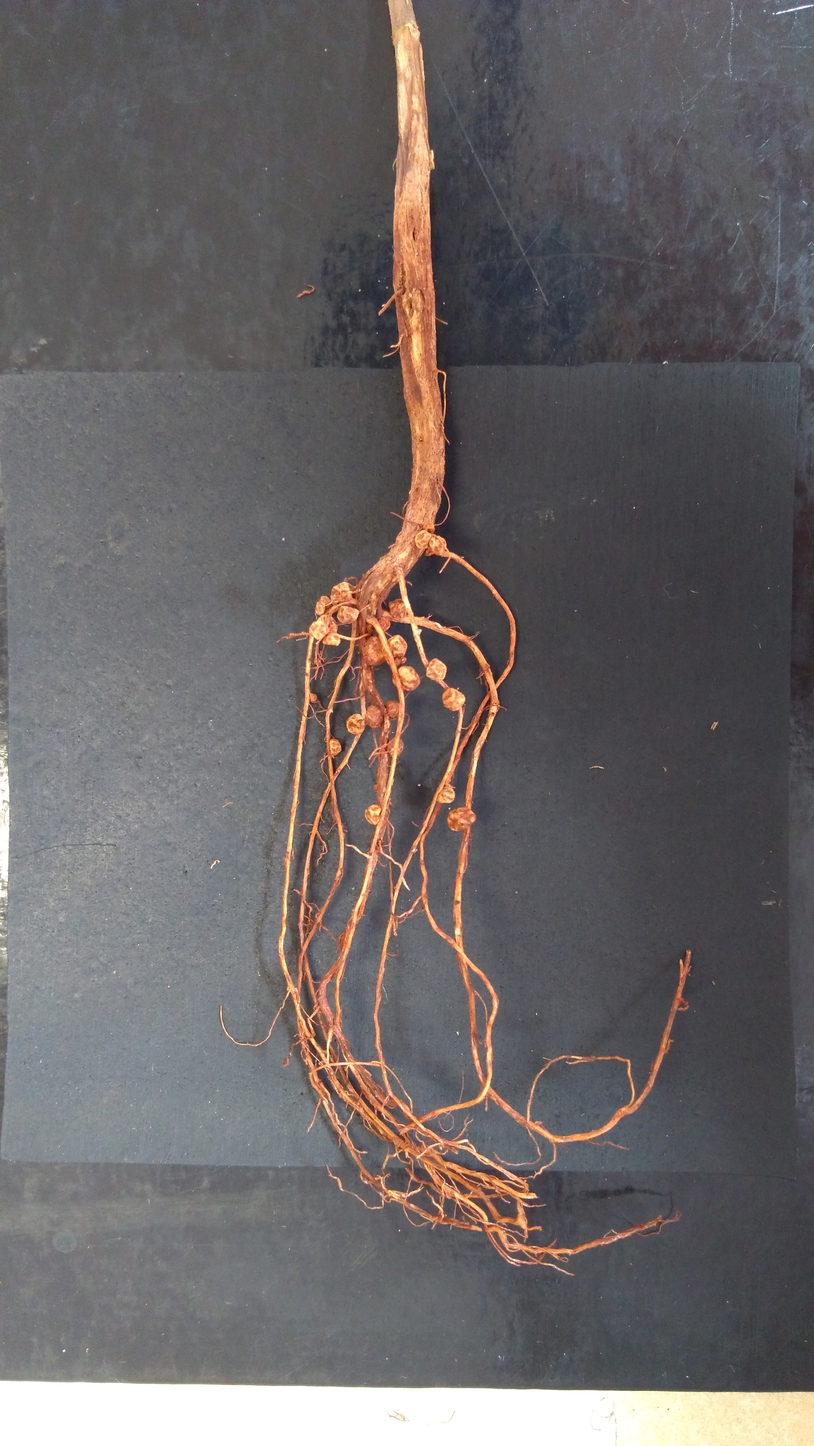nodule: (383, 635, 408, 667), (447, 806, 476, 832), (309, 615, 337, 640), (364, 635, 386, 666), (330, 582, 354, 609), (398, 666, 420, 691), (443, 688, 465, 711), (427, 658, 446, 681), (388, 598, 408, 619), (337, 605, 360, 623), (346, 714, 365, 735), (437, 783, 455, 804), (366, 706, 383, 728), (387, 737, 404, 758), (364, 805, 381, 825), (415, 530, 432, 549), (429, 536, 446, 555), (315, 596, 331, 615), (385, 700, 400, 720), (376, 617, 391, 633), (323, 634, 341, 646), (330, 738, 341, 756), (517, 1213, 528, 1230), (423, 523, 435, 533), (310, 692, 317, 701), (401, 657, 407, 665), (373, 784, 377, 791)
